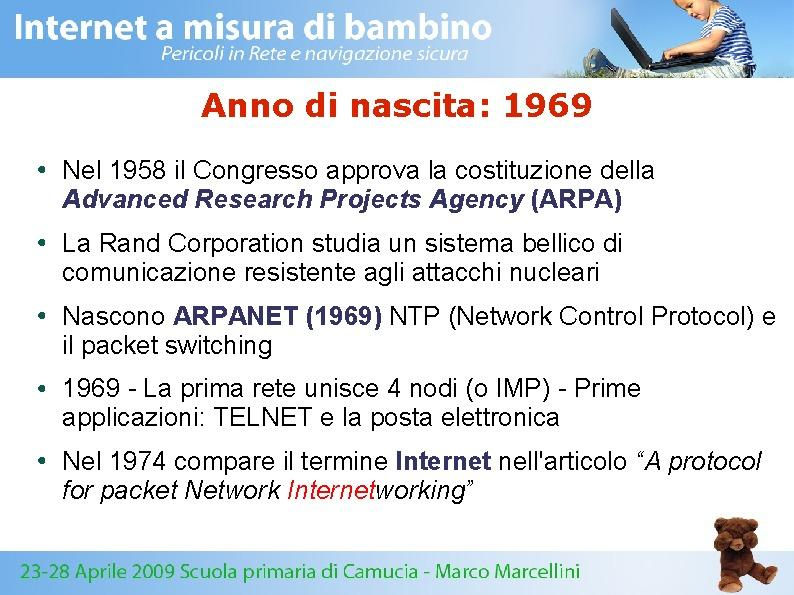paragraph: (17, 148, 782, 516)
subtitle: (1, 537, 616, 590), (182, 81, 608, 134)
title: (9, 3, 513, 66)
